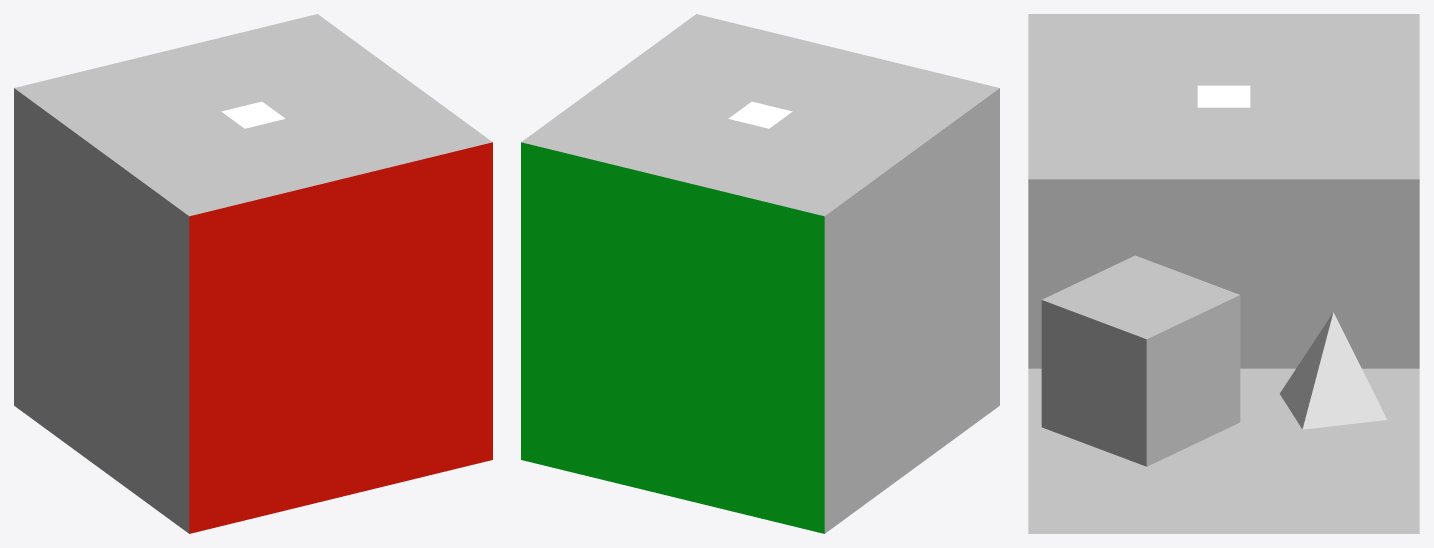
File: cornell.glb
3 views of the same model, side by side, from view 1: azimuth 30°, elevation 25°; view 2: azimuth 150°, elevation 25°; view 3: azimuth 270°, elevation 25° (orthographic). The views are drawn at different scales.
Parts seen in each view (by area): view 1: Cube; view 2: Cube; view 3: Cube, Cube.001, Plane.
Boxes of the visible parts, x1,y1,x2,y2 form: Cube: [14, 14, 492, 533]; Cube: [521, 14, 999, 533]; Cube: [1028, 14, 1419, 533]; Cube.001: [1041, 255, 1240, 466]; Plane: [1279, 312, 1386, 429].
Bounding box in the file's own units: 4 × 4 × 4.
